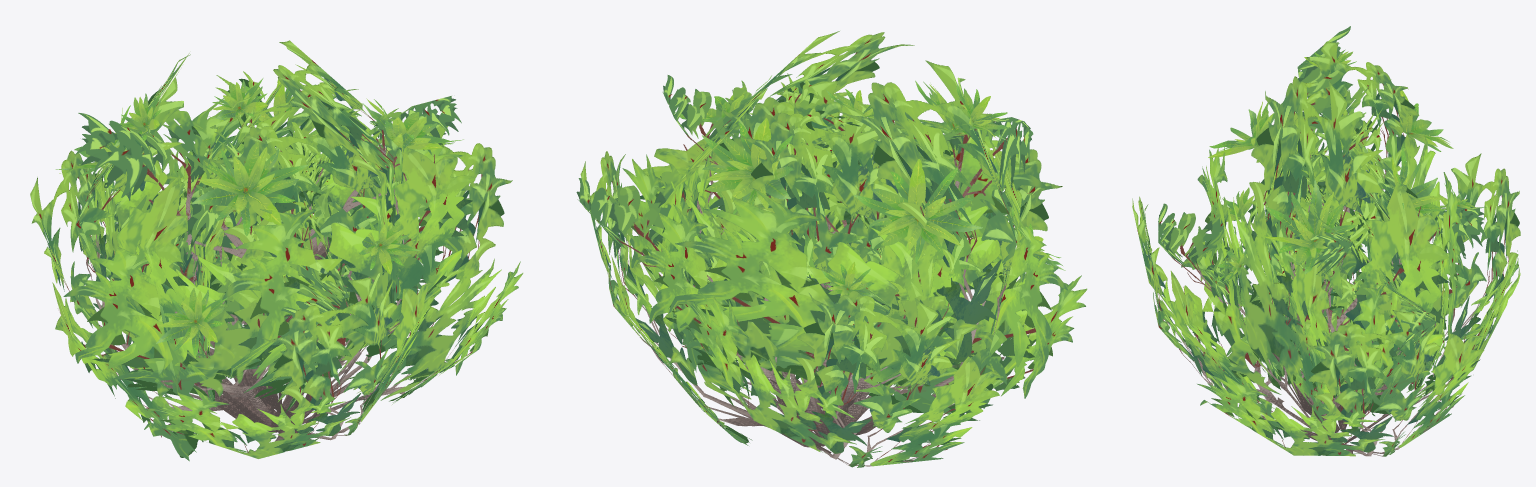
File: Plant_Simple_Brush_Regular.fbx
3 views of the same model, side by side, from view 1: azimuth 30°, elevation 25°; view 2: azimuth 150°, elevation 25°; view 3: azimuth 270°, elevation 25° (orthographic). The views are drawn at different scales.
Visible parts, largest first — view 1: Plant Simple Brush Regular; view 2: Plant Simple Brush Regular; view 3: Plant Simple Brush Regular.
Boxes of the visible parts, <box> form: Plant Simple Brush Regular: <box>30,40,523,461</box>; Plant Simple Brush Regular: <box>576,31,1087,467</box>; Plant Simple Brush Regular: <box>1132,26,1520,456</box>.
Bounding box in the file's own units: 77.63 × 69.38 × 62.98.
